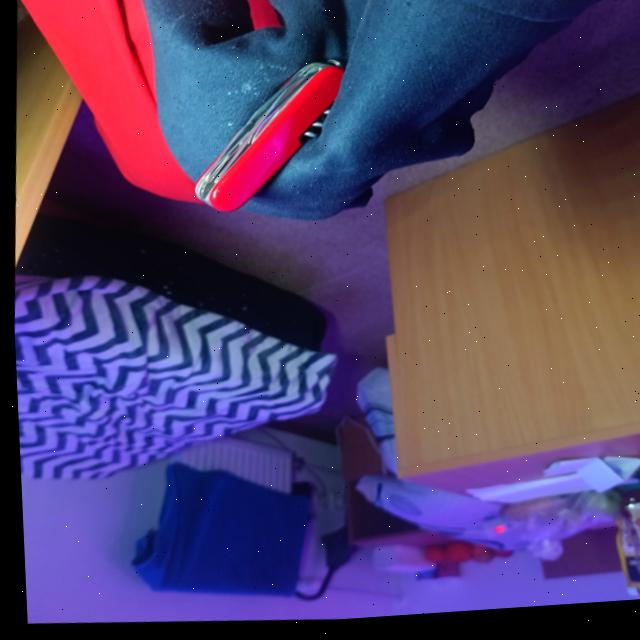knife victorinox: (192, 65, 342, 213), (209, 181, 252, 212)
